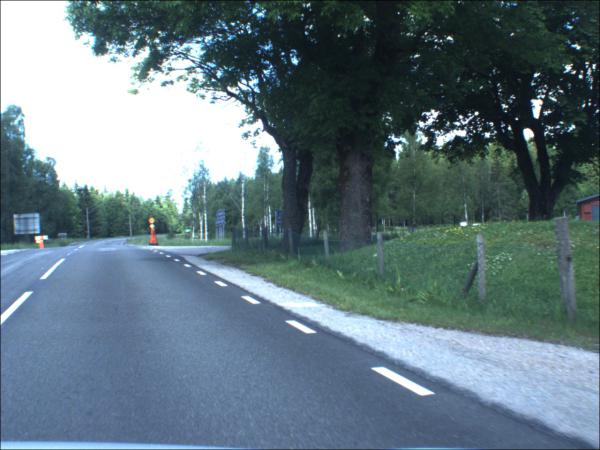80_SIGN: (150, 219, 158, 225)
PRIORITY_ROAD: (151, 225, 157, 230)
